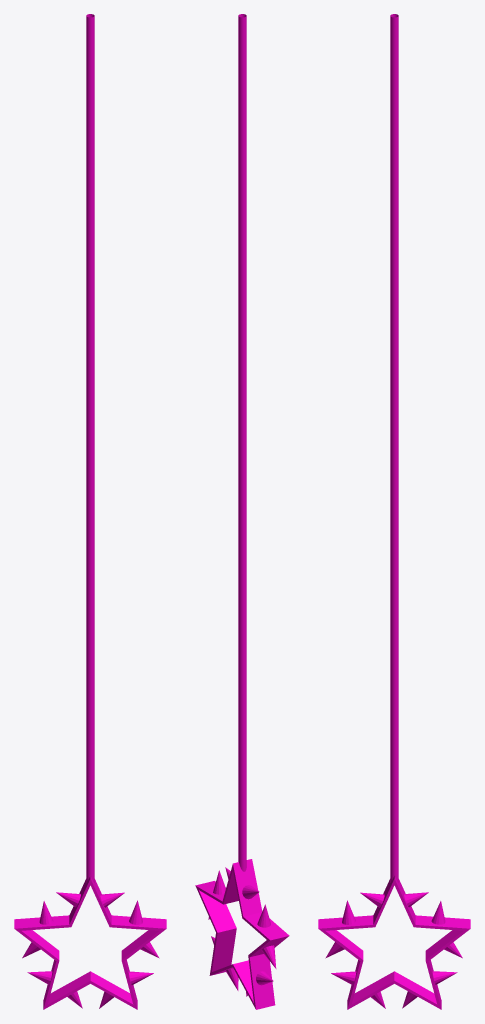
File: cutter5_star.fbx
3 views of the same model, side by side, from view 1: azimuth 90°, elevation 25°; view 2: azimuth 210°, elevation 25°; view 3: azimuth 270°, elevation 25° (orthographic).
Parts seen in each view (by area): view 1: Cutter5_Star; view 2: Cutter5_Star; view 3: Cutter5_Star.
Boxes of the visible parts, box(x1,y1,x2,y2) form: Cutter5_Star: box(14, 14, 166, 1009); Cutter5_Star: box(195, 14, 289, 1009); Cutter5_Star: box(318, 14, 470, 1009).
Size of the model in its own units: 16.77 by 817 by 114.
